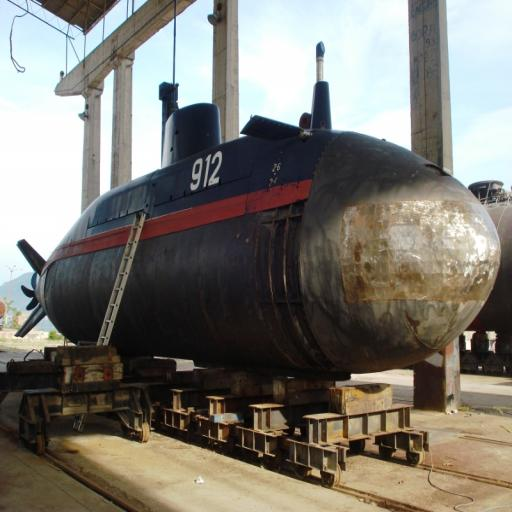submarine: (13, 53, 504, 383)
